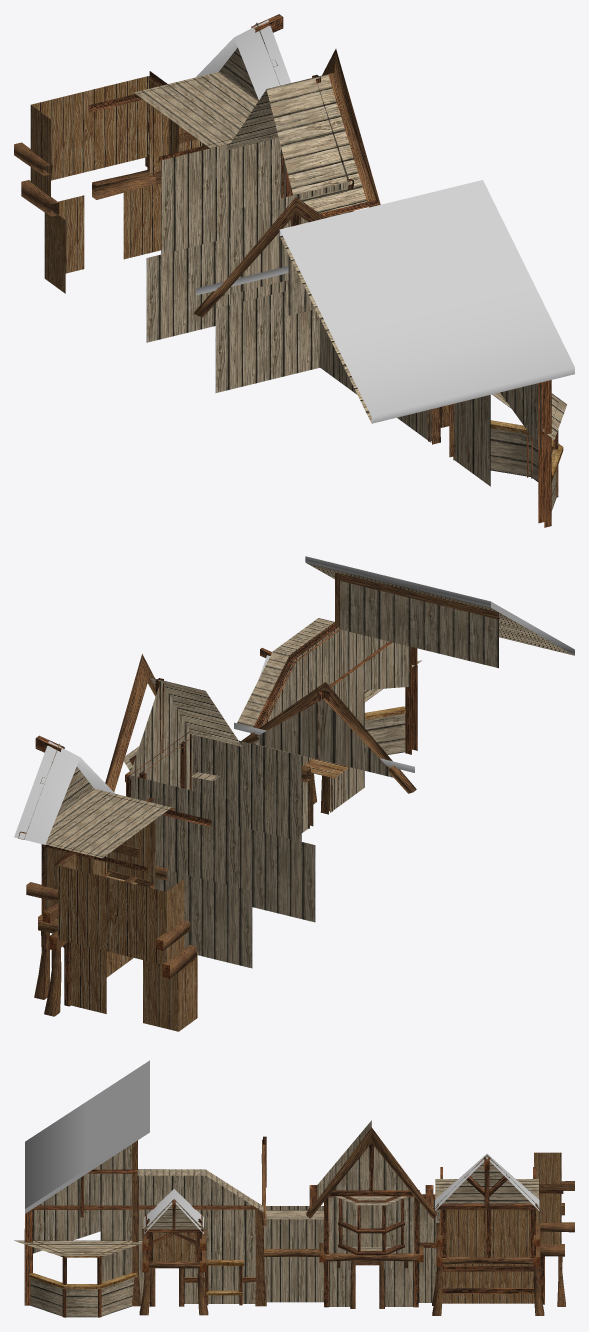
The model's file is LAKETOWN_EXTERIOR_PS_LT_PUBBLOCK99__GX.obj.
3 views of the same model, one above another, from view 1: azimuth 30°, elevation 25°; view 2: azimuth 150°, elevation 25°; view 3: azimuth 270°, elevation 25° (orthographic). The views are drawn at different scales.
Visible parts, largest first — view 1: _PubBlock99__GX; view 2: _PubBlock99__GX; view 3: _PubBlock99__GX.
Part boxes in pixels (x1,y1,x2,y2): _PubBlock99__GX: (14, 14, 574, 527); _PubBlock99__GX: (14, 556, 574, 1031); _PubBlock99__GX: (14, 1060, 574, 1317).
Bounding box in the file's own units: 944 × 1017 × 2696.
